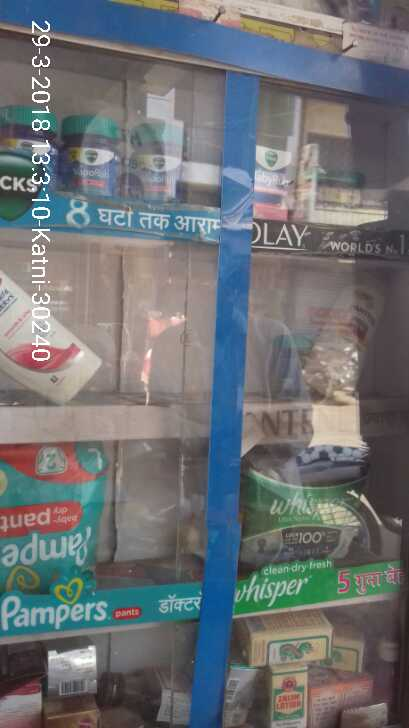vicks: (8, 110, 188, 204)
